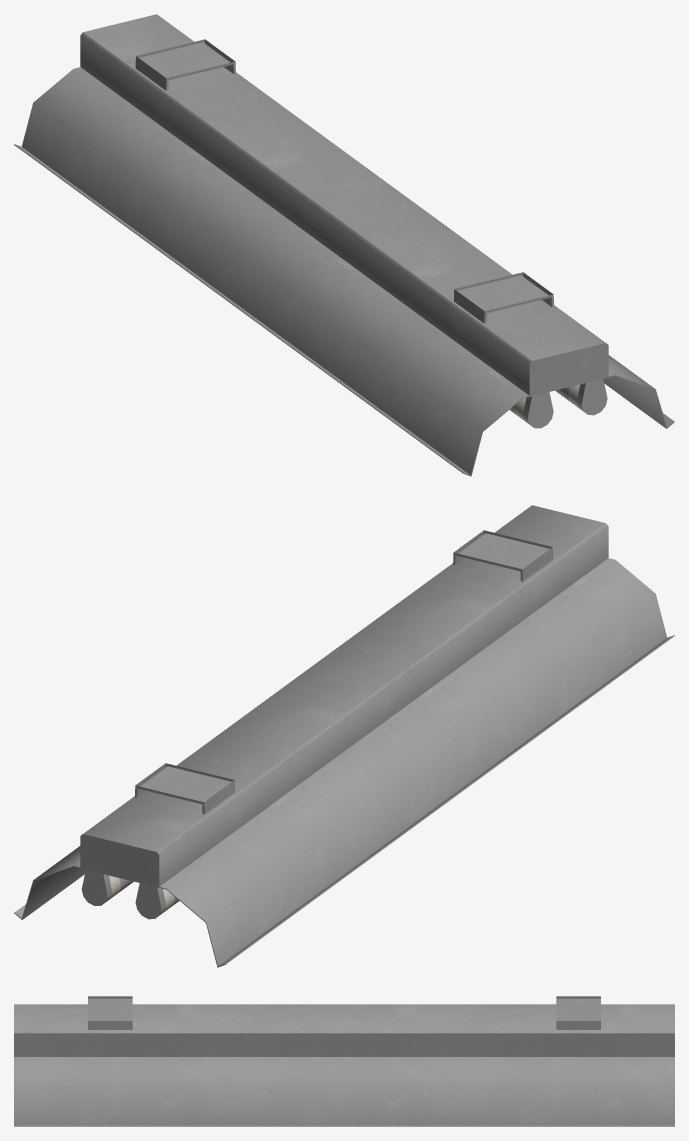
The model's file is Lamp_B.fbx.
3 views of the same model, one above another, from view 1: azimuth 30°, elevation 25°; view 2: azimuth 150°, elevation 25°; view 3: azimuth 270°, elevation 25° (orthographic). The views are drawn at different scales.
Visible parts, largest first — view 1: Lamp_B; view 2: Lamp_B; view 3: Lamp_B.
Part boxes in pixels (x1,y1,x2,y2): Lamp_B: [14, 14, 674, 476]; Lamp_B: [14, 505, 674, 967]; Lamp_B: [14, 996, 674, 1126].
Bounding box in the file's own units: 26.13 × 13.35 × 96.
